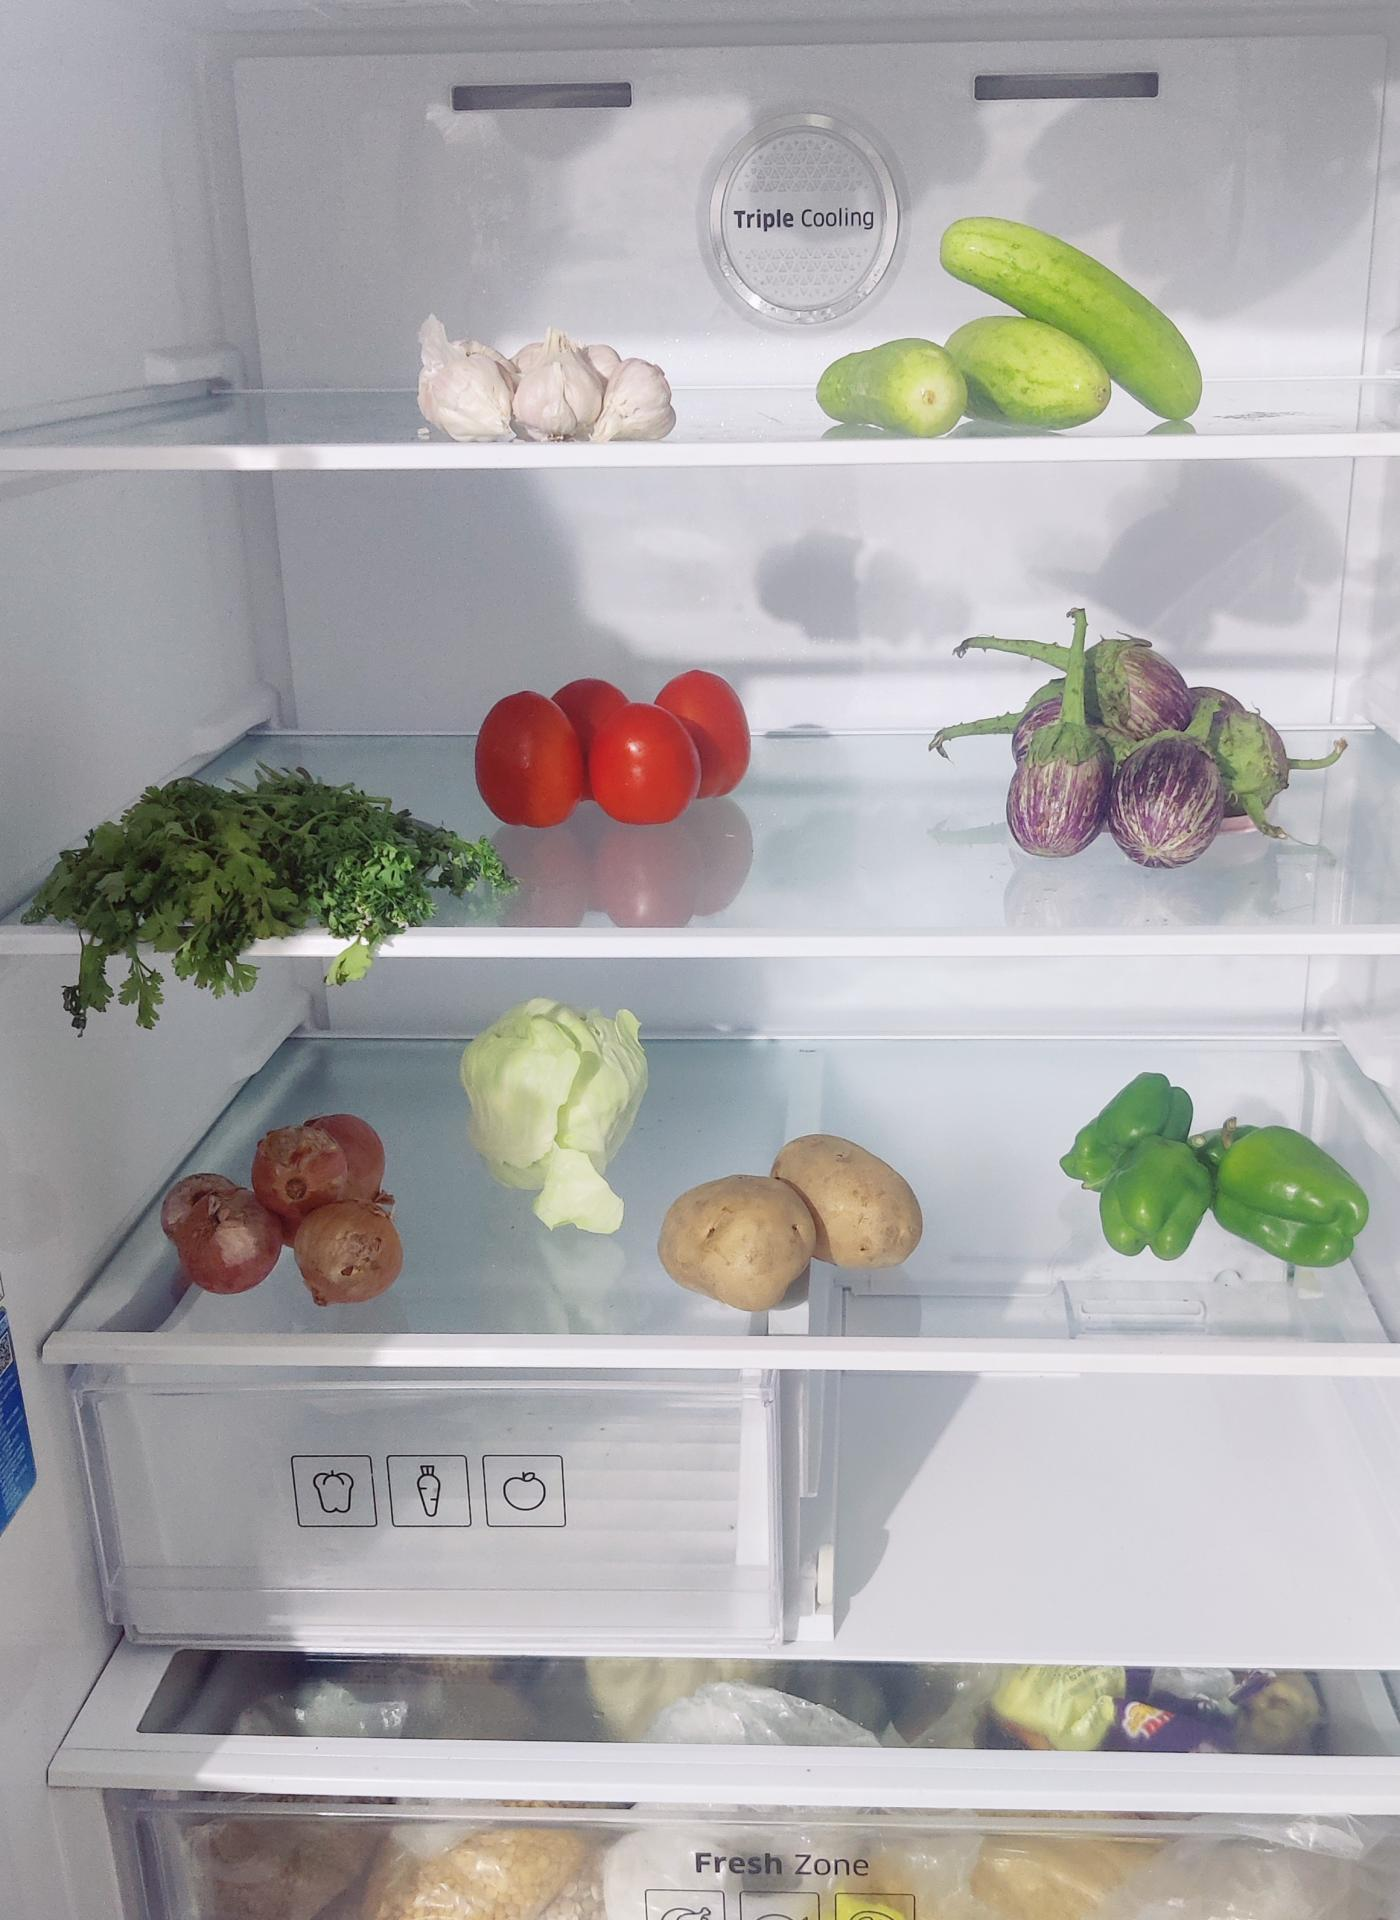brinjal: (962, 610, 1305, 856)
cabbage: (461, 1002, 644, 1188)
capsicum: (1066, 1079, 1381, 1272)
coriander: (28, 771, 504, 964)
cucumber: (835, 227, 1211, 435)
garlic: (412, 322, 672, 444)
onion: (168, 1120, 409, 1304)
potato: (660, 1137, 932, 1316)
tomato: (479, 663, 759, 823)
